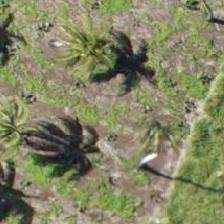coconut_tree: (38, 0, 128, 84), (0, 85, 49, 175)
